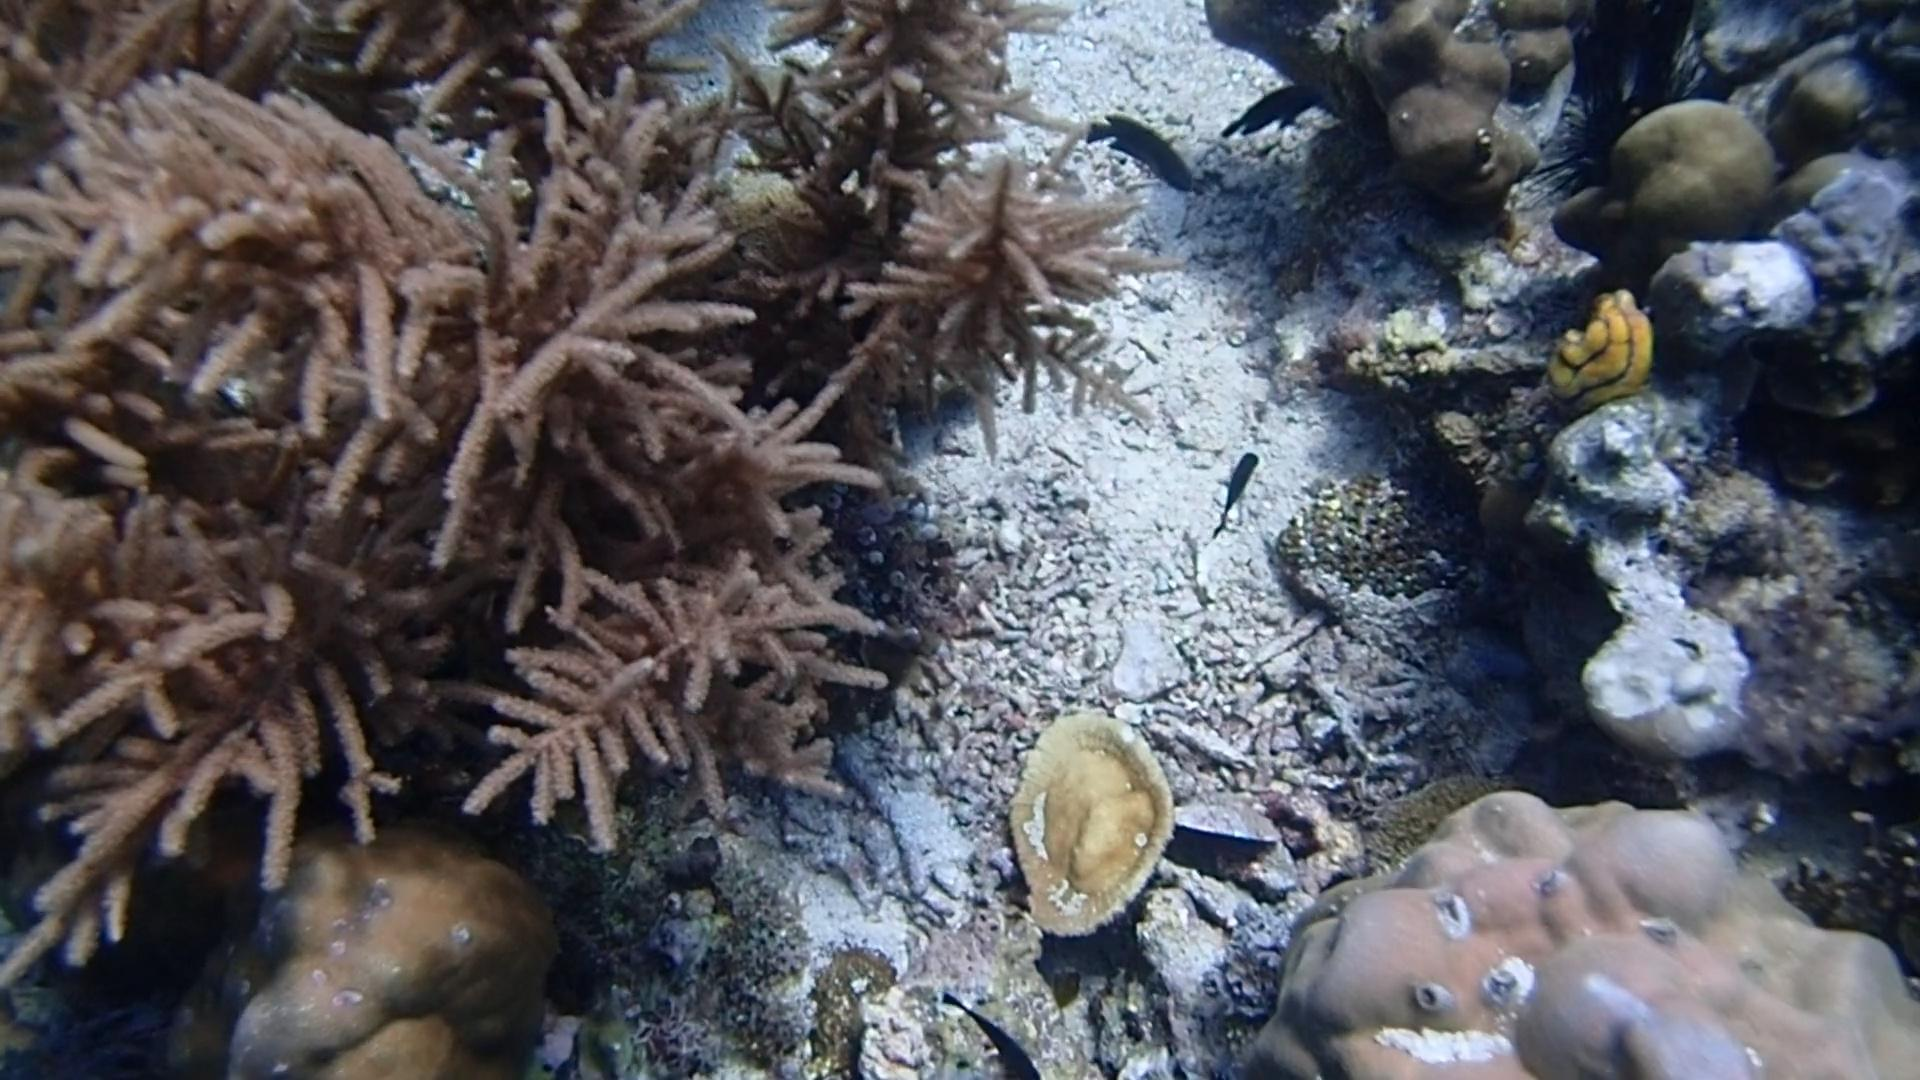Dark Fish: (1079, 94, 1201, 203), (1224, 70, 1331, 146), (1200, 446, 1273, 538)
